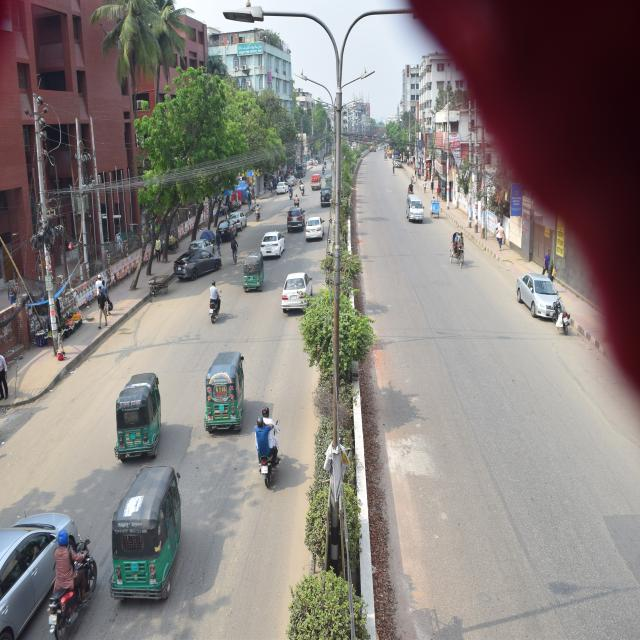car: (0, 500, 78, 640), (511, 265, 564, 324), (175, 244, 222, 287), (279, 272, 315, 315), (260, 226, 287, 256), (211, 209, 236, 241), (306, 210, 328, 242), (234, 208, 255, 235), (285, 204, 304, 232)
microbus: (401, 187, 426, 227)
motorbike: (252, 434, 287, 494), (203, 282, 230, 328), (553, 294, 573, 340), (253, 203, 264, 224), (299, 184, 307, 196), (288, 186, 294, 201)
pickup-van: (307, 170, 324, 191)
